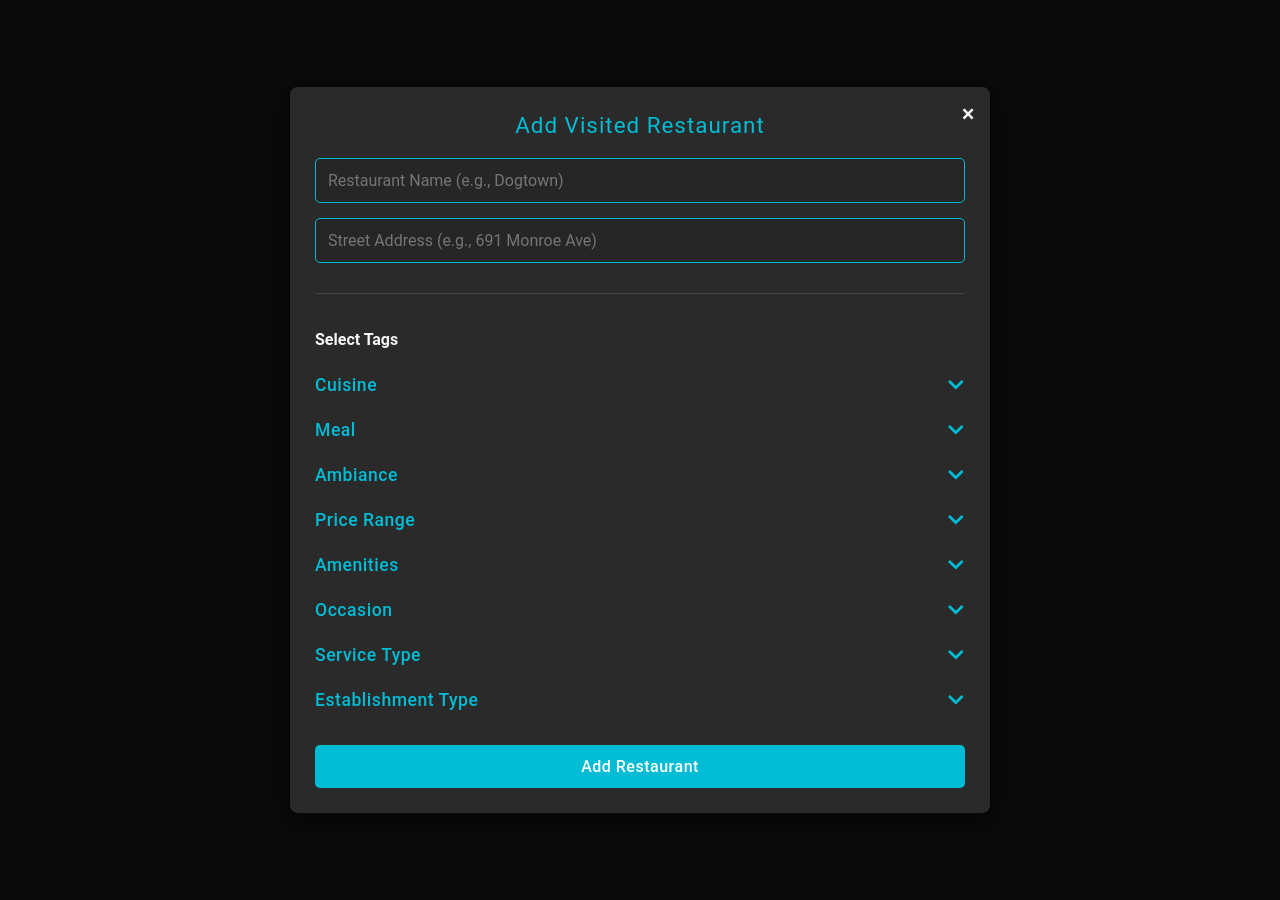
Test case: shows an error and does not submit when geocoding finds no address
Type "Unknown" into the field with placeholder "Restaurant Name (e.g., Dogtown)". click: (640, 180)
box: 315,158 -> 965,203
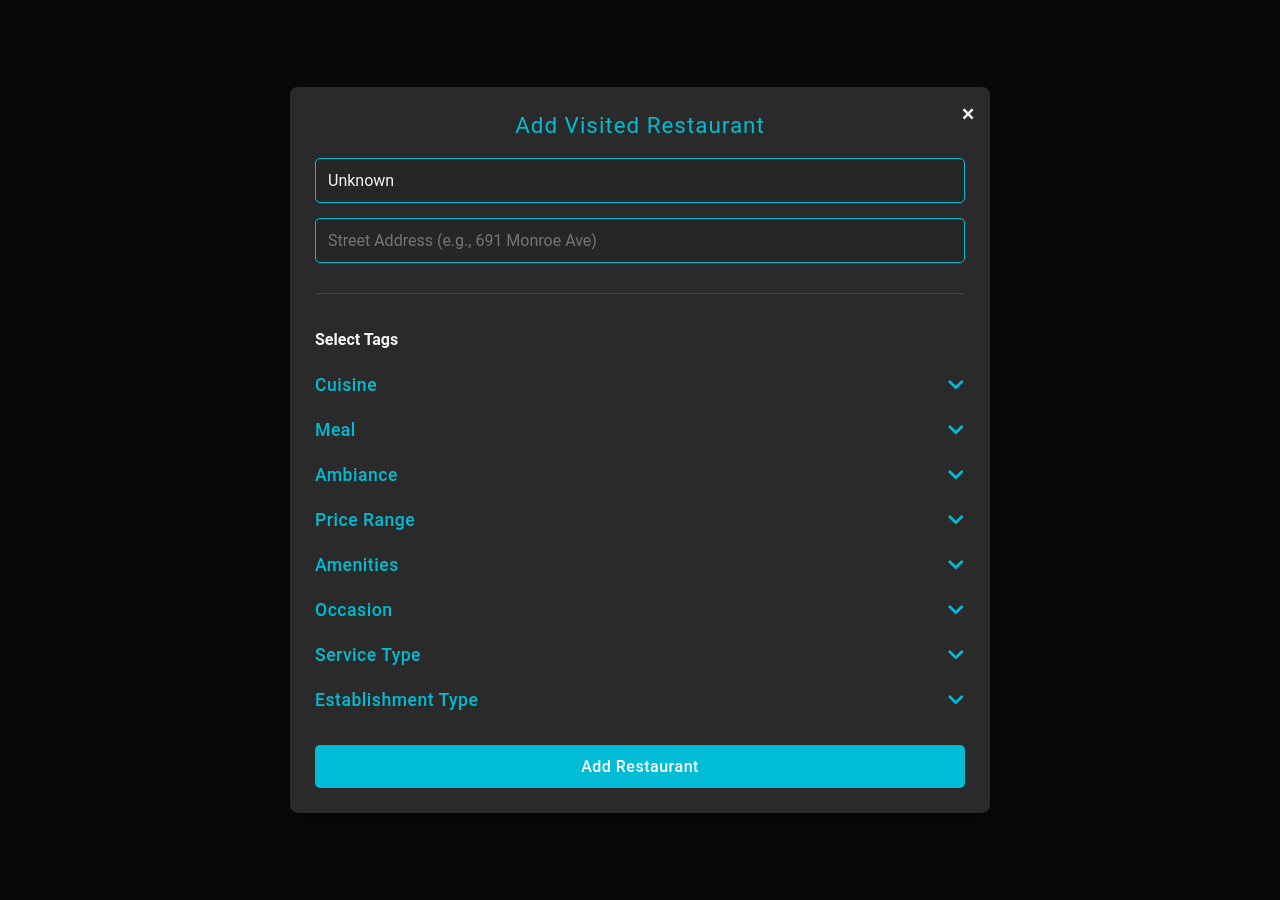
Type "Nowhere" into the field with placeholder "Street Address (e.g., 691 Monroe Ave)". click: (640, 240)
box: 315,218 -> 965,263
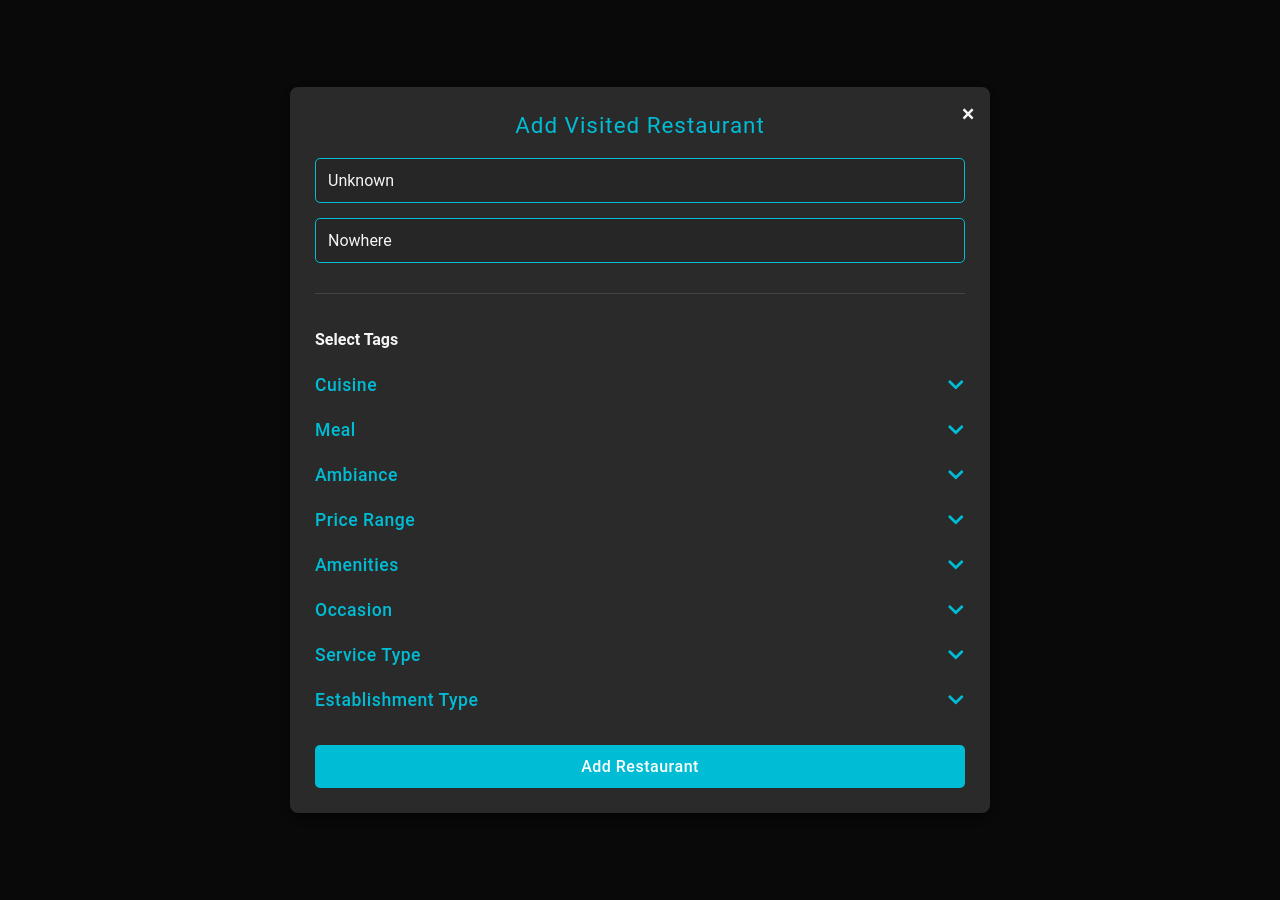
Click the button "Add Restaurant". click: (640, 767)
box: 315,745 -> 965,788
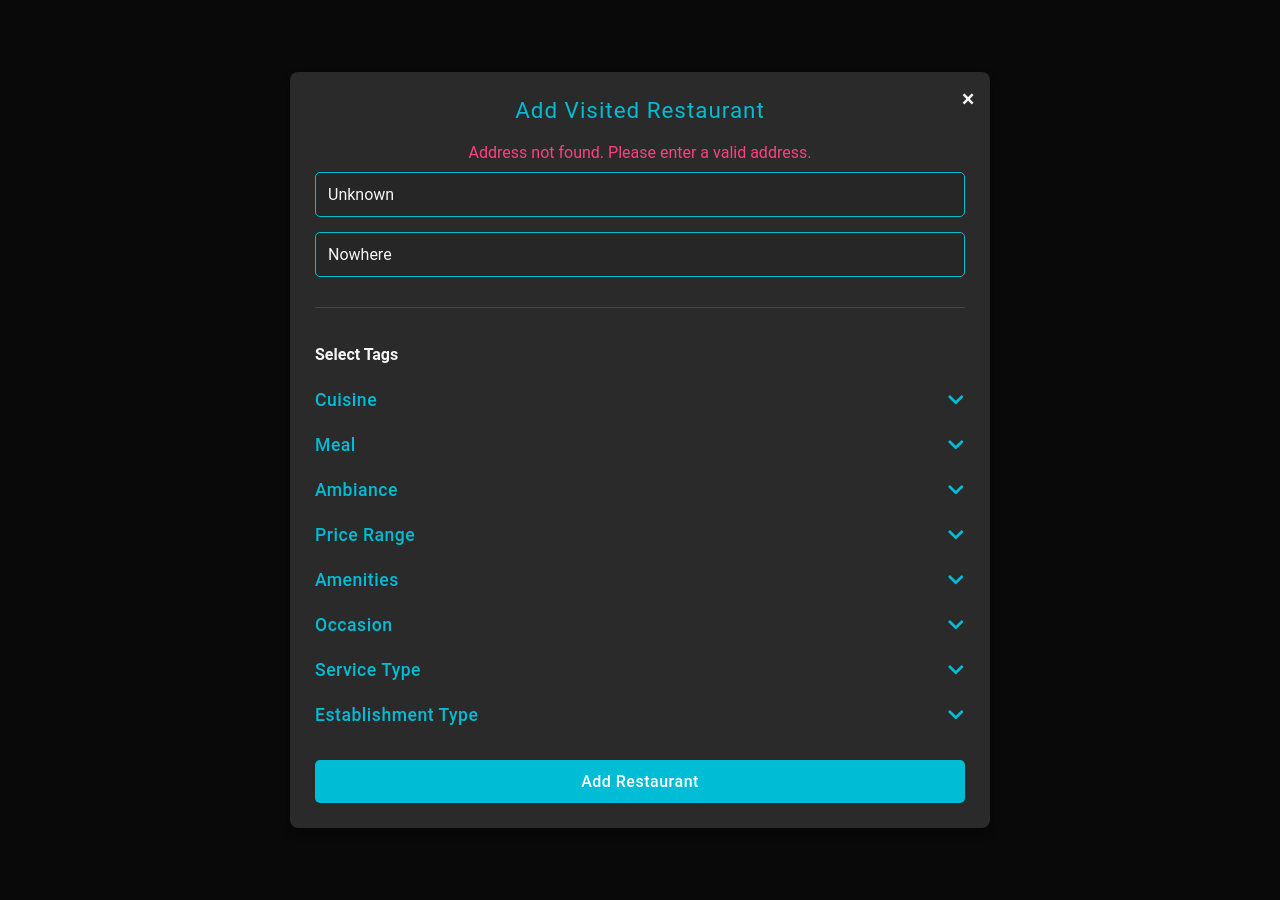
Check: the text "Address not found. Please enter a valid address." is shown, box 469,143 -> 811,162
